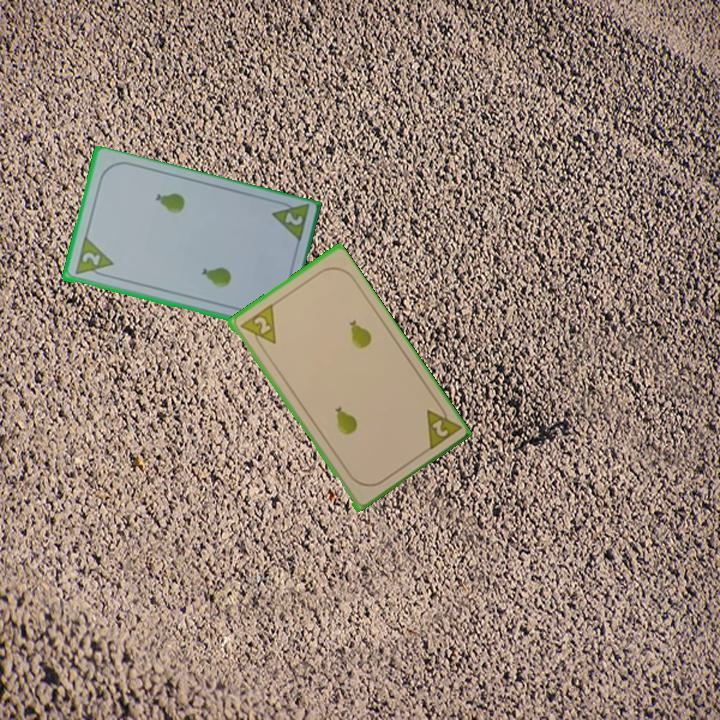2p: (422, 398, 463, 454), (235, 301, 279, 353), (71, 235, 116, 281), (281, 209, 306, 229)
